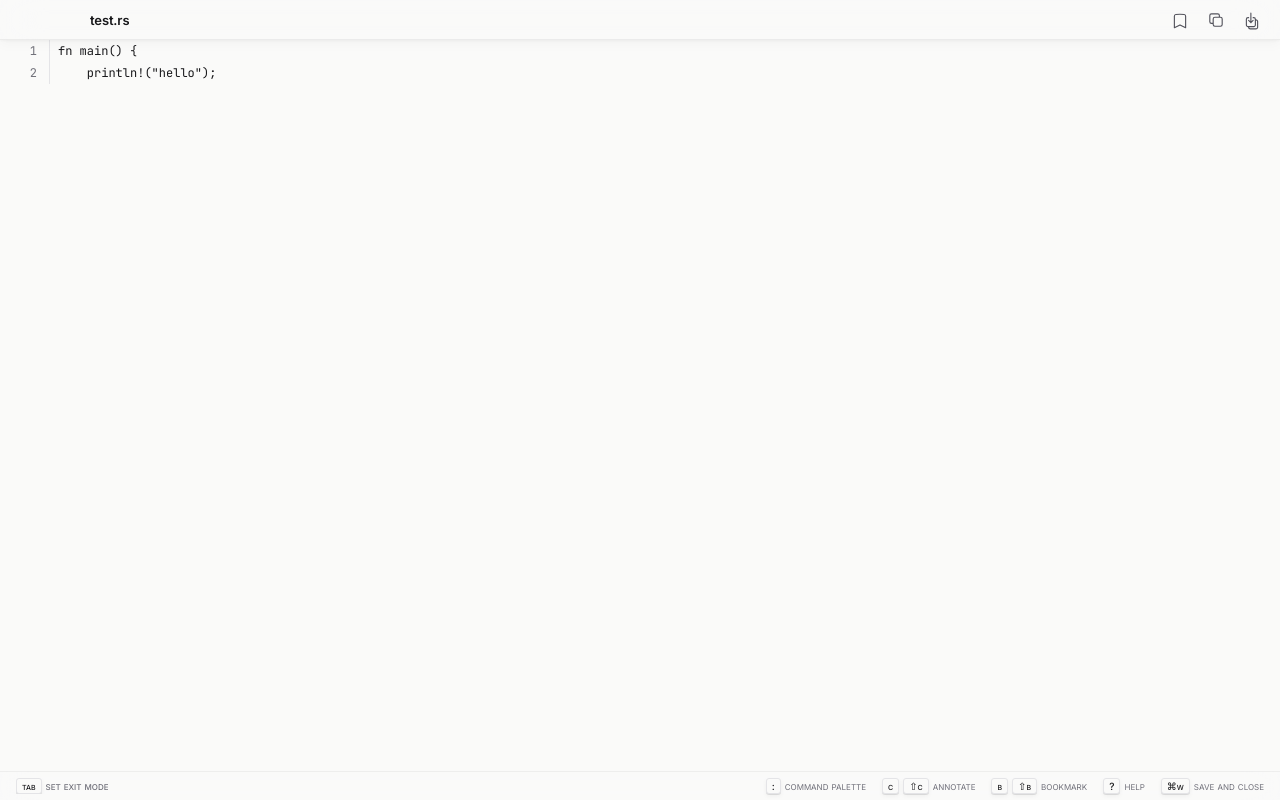
Test case: +page.svelte › opens editor when 'c' is pressed alone on hovered line
Expected: the text "fn main() {" is shown, x1=58 y1=43 x2=137 y2=59
Hover over the text "fn main() {" at (69, 51), box x1=0 y1=40 x2=137 y2=62
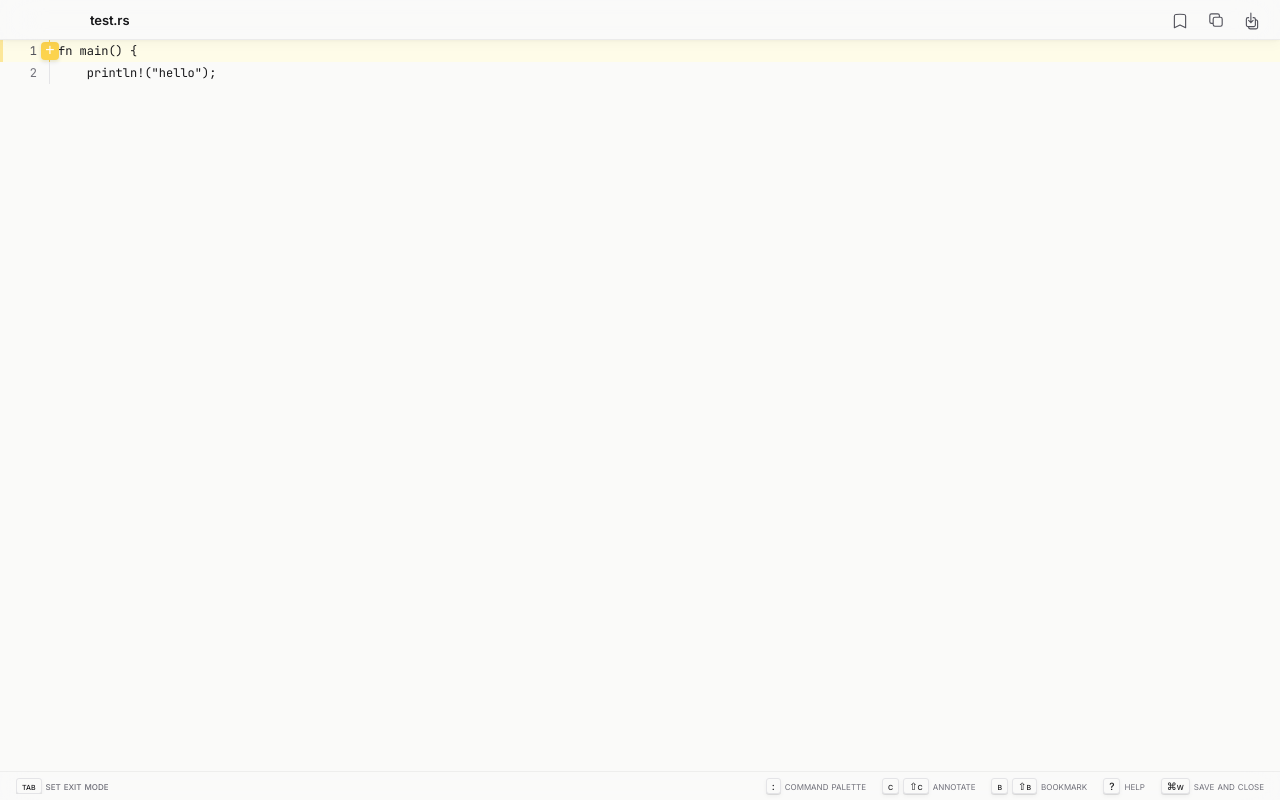
# Press 'c' alone (should open editor)
Press c
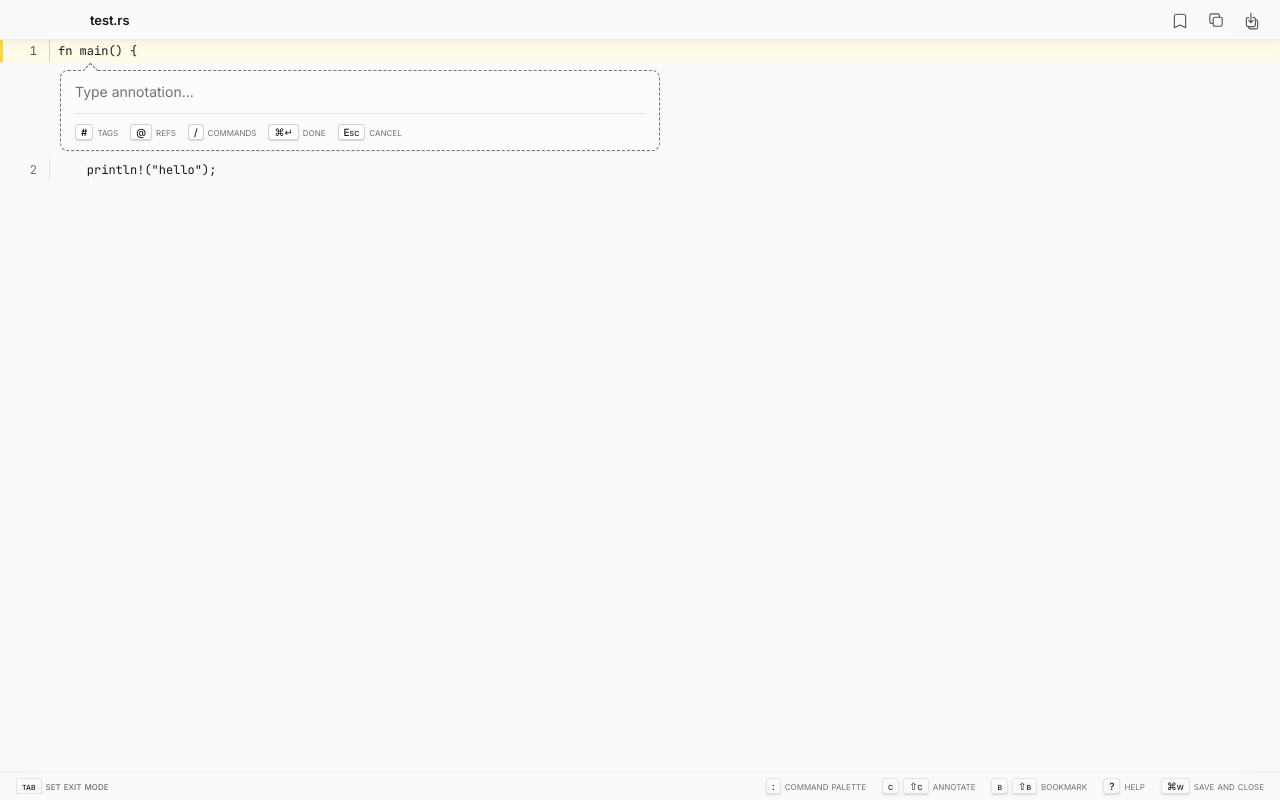
Expected: the text "done" is shown, x1=303 y1=124 x2=326 y2=138
